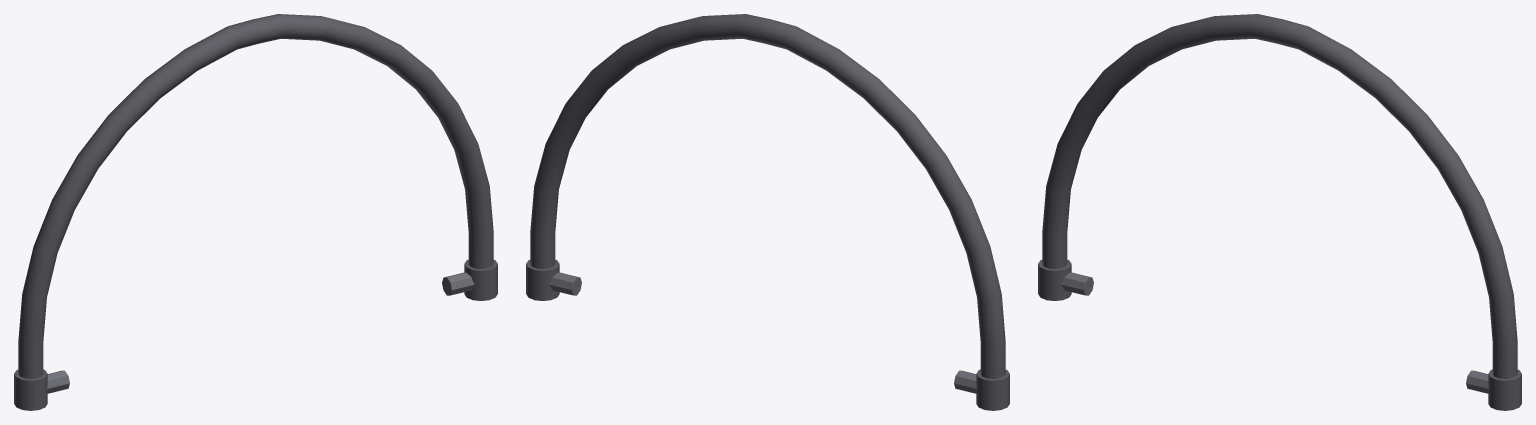
Rendered from Pot_01_2.fbx.
3 renders of one model, left to right at view 1: azimuth 30°, elevation 25°; view 2: azimuth 150°, elevation 25°; view 3: azimuth 330°, elevation 25°, orthographic.
Parts seen in each view (by area): view 1: Pot_01_2_LOD0; view 2: Pot_01_2_LOD0; view 3: Pot_01_2_LOD0.
Boxes of the visible parts, <box> form: Pot_01_2_LOD0: <box>14,14,497,410</box>; Pot_01_2_LOD0: <box>526,14,1009,410</box>; Pot_01_2_LOD0: <box>1038,14,1521,410</box>.
Size of what is drawn, in the model's own units: 0.1993 by 0.1307 by 0.0121.
